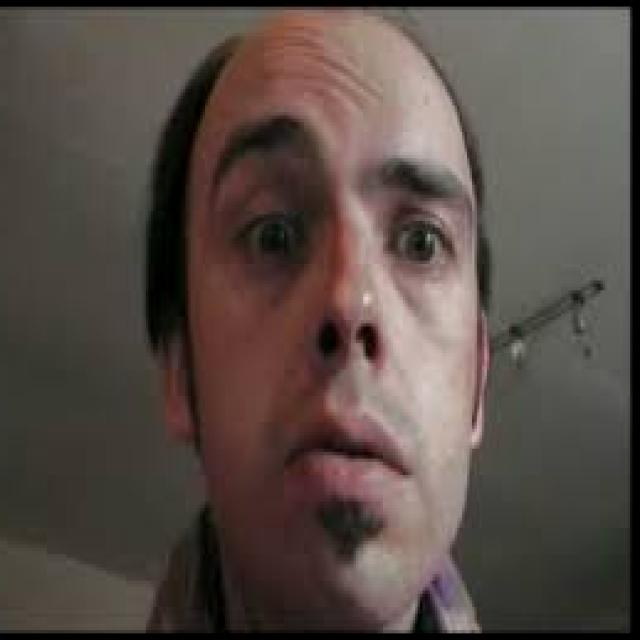normal_face: (178, 26, 476, 598)
